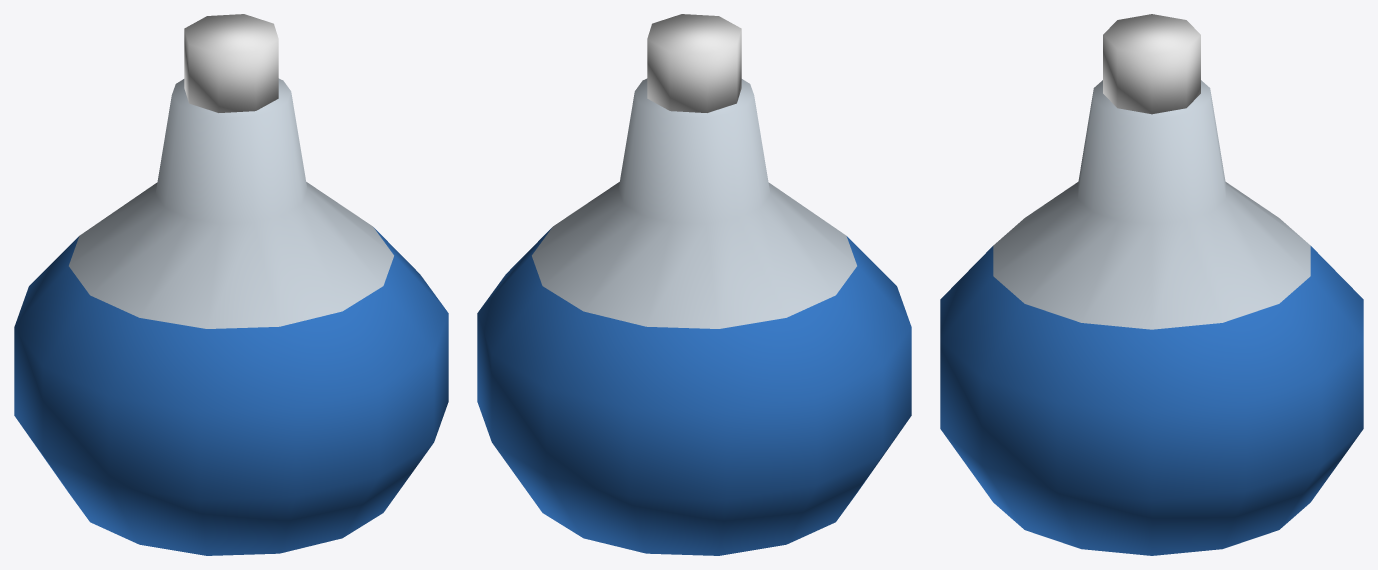
The model's file is fishing_potion.glb.
The picture shows the model from 3 angles, left to right: view 1: azimuth 30°, elevation 25°; view 2: azimuth 150°, elevation 25°; view 3: azimuth 270°, elevation 25°; orthographic projection.
Visible parts, largest first — view 1: fishing_potion_v0; view 2: fishing_potion_v0; view 3: fishing_potion_v0.
Boxes of the visible parts, x1,y1,x2,y2 form: fishing_potion_v0: (14,14,448,555); fishing_potion_v0: (477,14,911,555); fishing_potion_v0: (940,14,1363,555).
Size of the model in its own units: 0.24 by 0.276 by 0.234.
